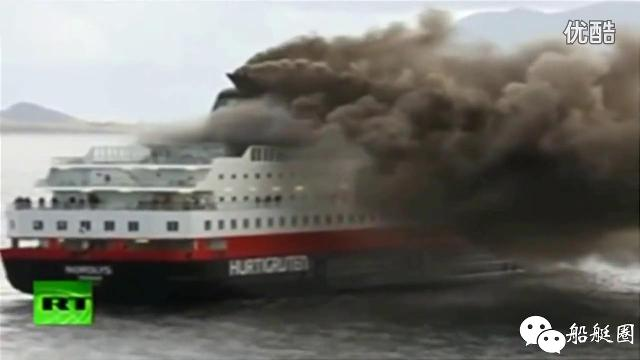smoke: (318, 95, 638, 212), (353, 19, 635, 94), (476, 212, 638, 266), (152, 94, 318, 144), (229, 38, 347, 94)
